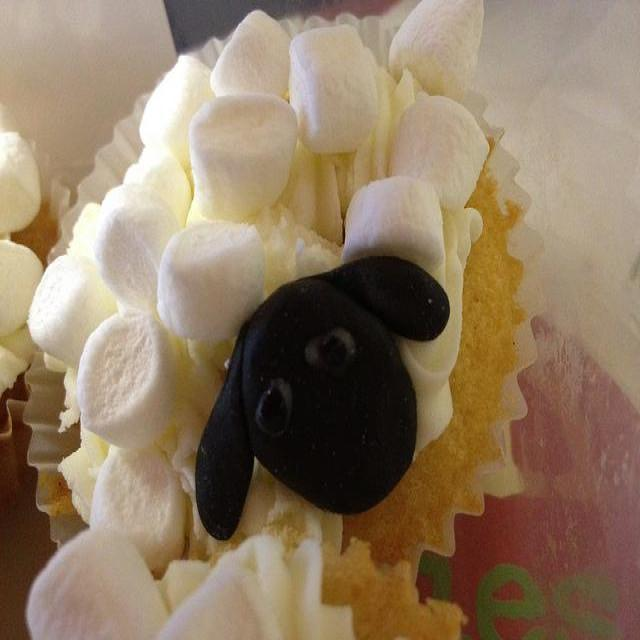Sheep: (195, 255, 448, 540)
